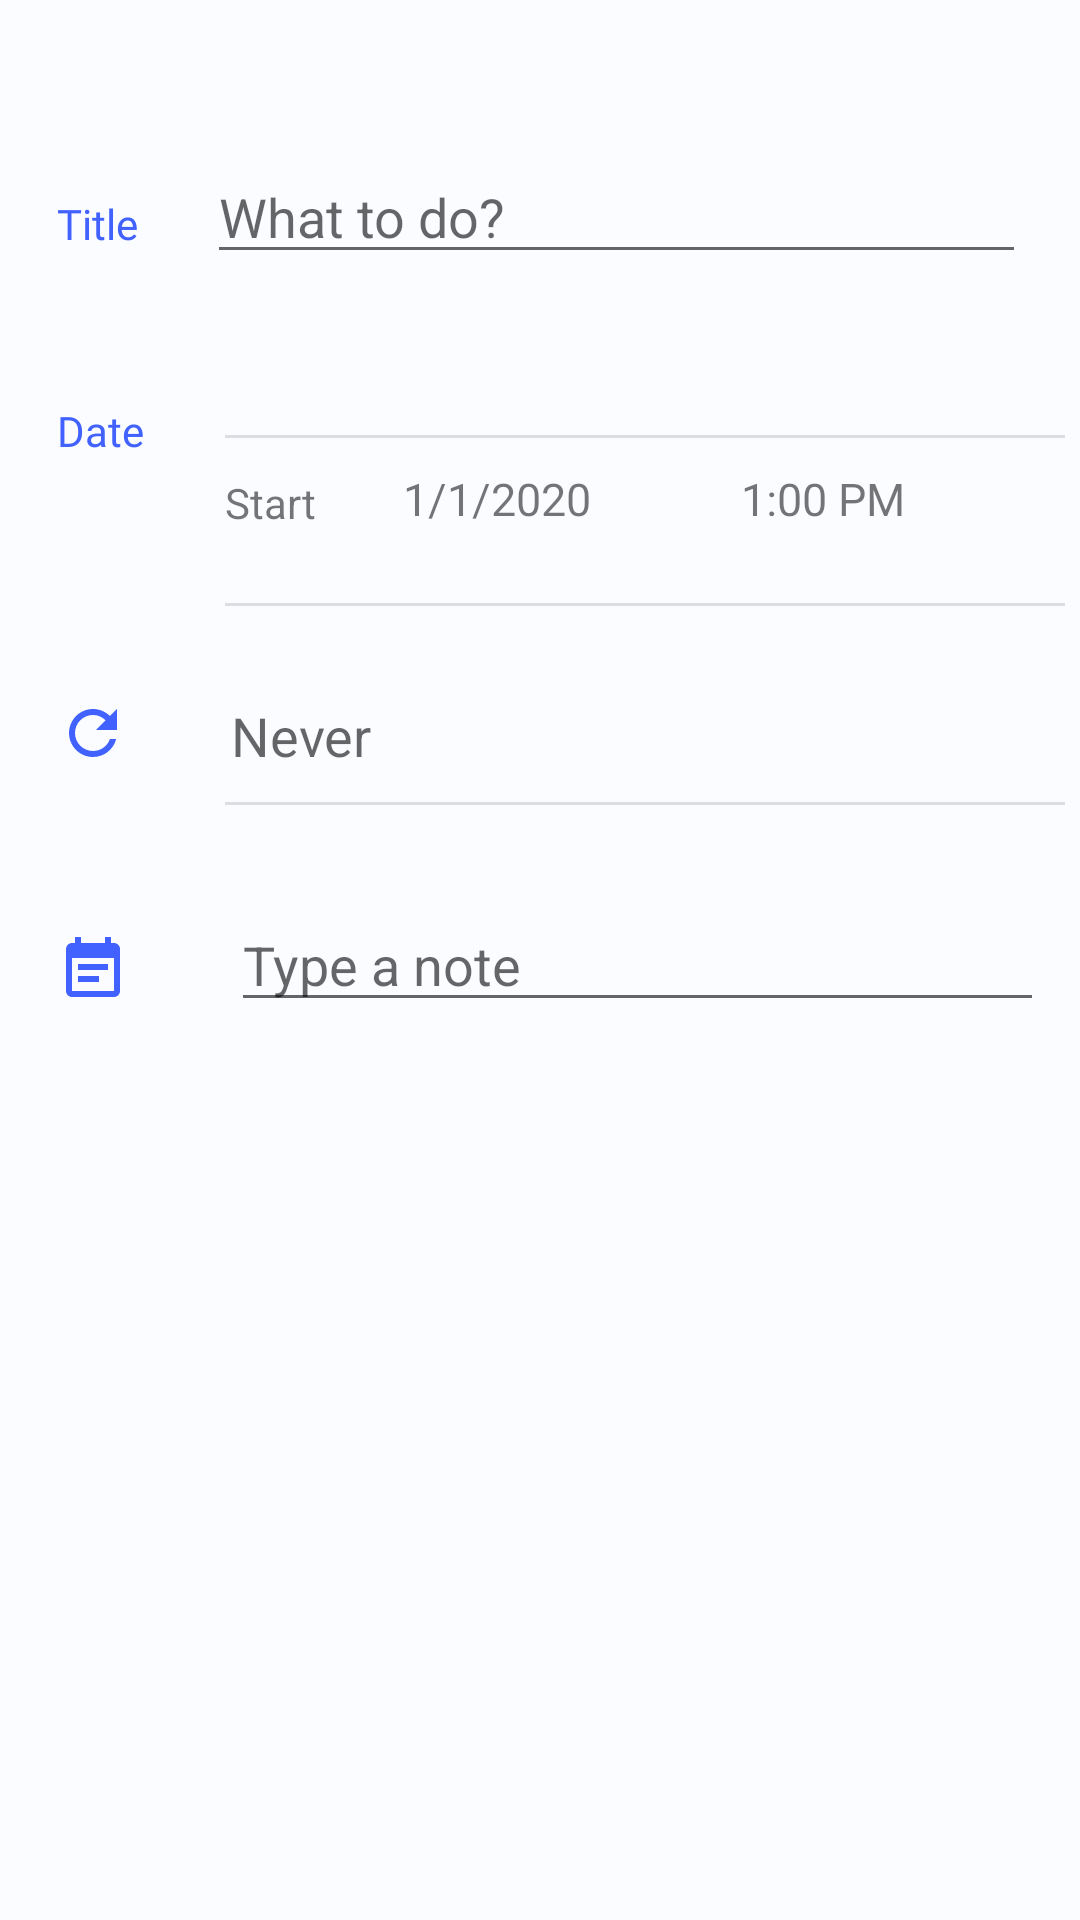

Point at icon controls on the screen. Image size 1080×1920, points as [x,y].
event note: [93,967]
repeat: [93,733]
